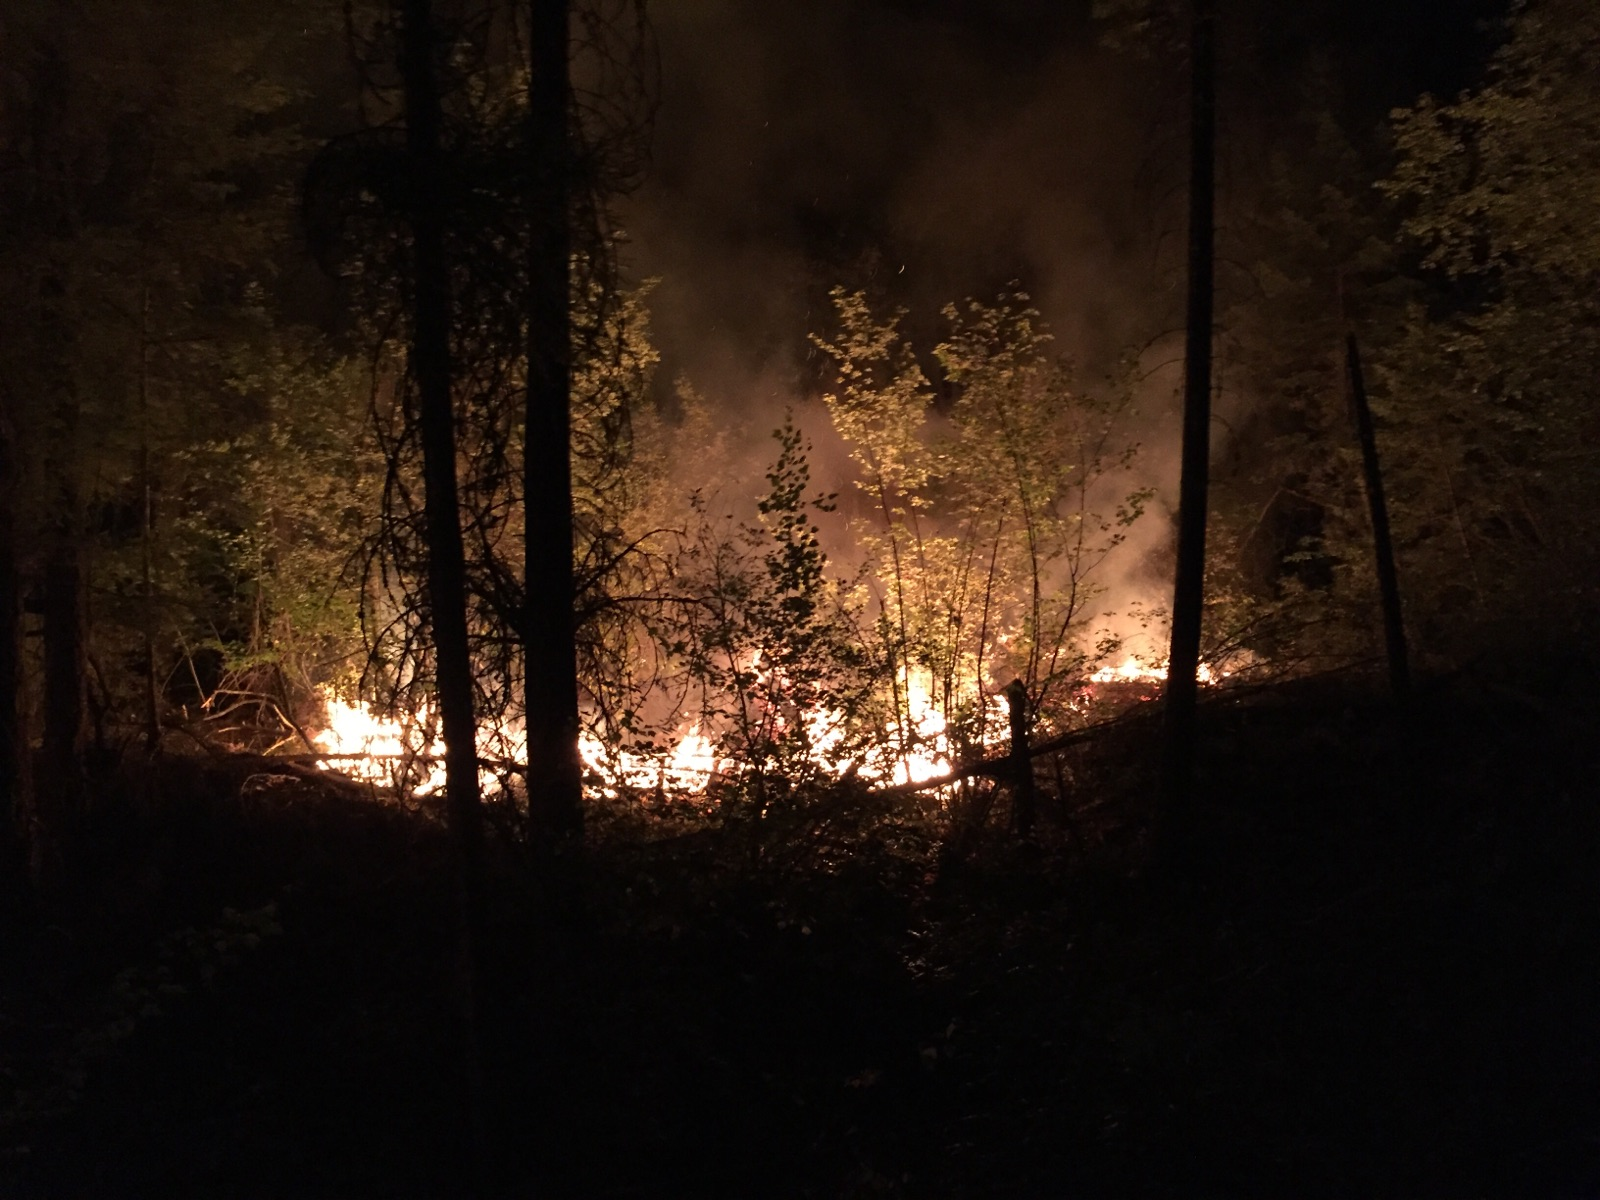fire: (703, 534, 1293, 925), (228, 635, 777, 890)
